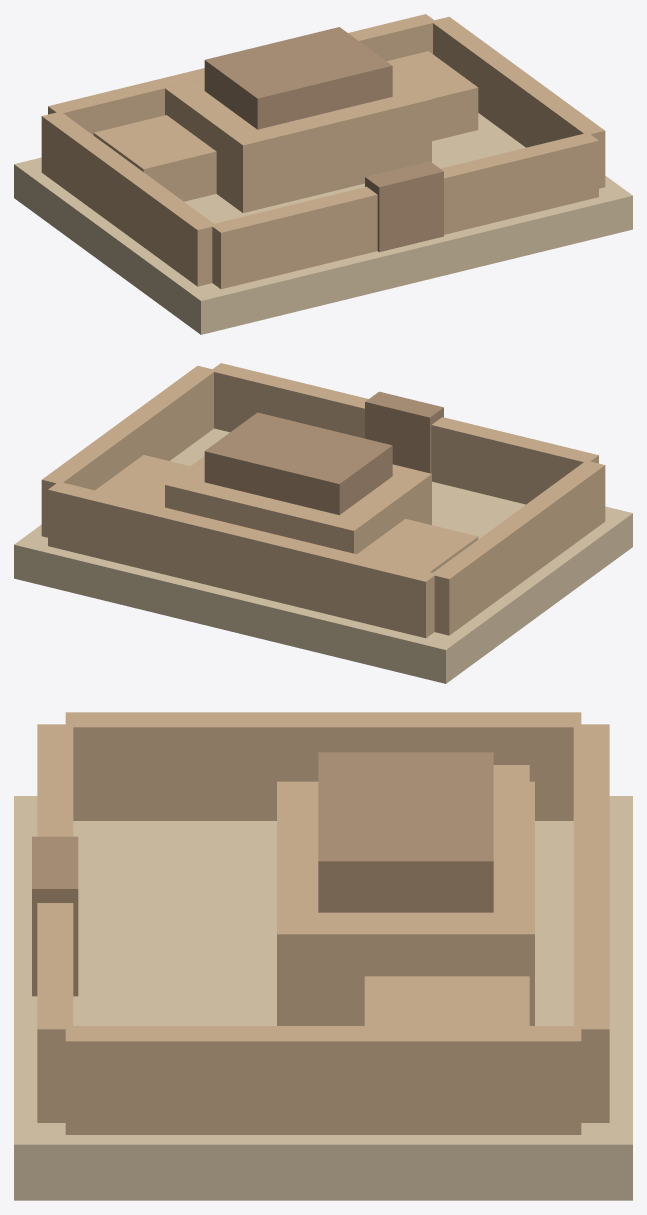
Rendered from chimu_compound_lod1.glb.
3 views of the same model, one above another, from view 1: azimuth 30°, elevation 25°; view 2: azimuth 150°, elevation 25°; view 3: azimuth 270°, elevation 25° (orthographic). The views are drawn at different scales.
Parts seen in each view (by area): view 1: chimu_compound; view 2: chimu_compound; view 3: chimu_compound.
Boxes of the visible parts, box(x1,y1,x2,y2) form: chimu_compound: box(14, 14, 632, 334); chimu_compound: box(14, 363, 632, 683); chimu_compound: box(14, 712, 632, 1200).
Size of the model in its own units: 16 by 4.7 by 12.
